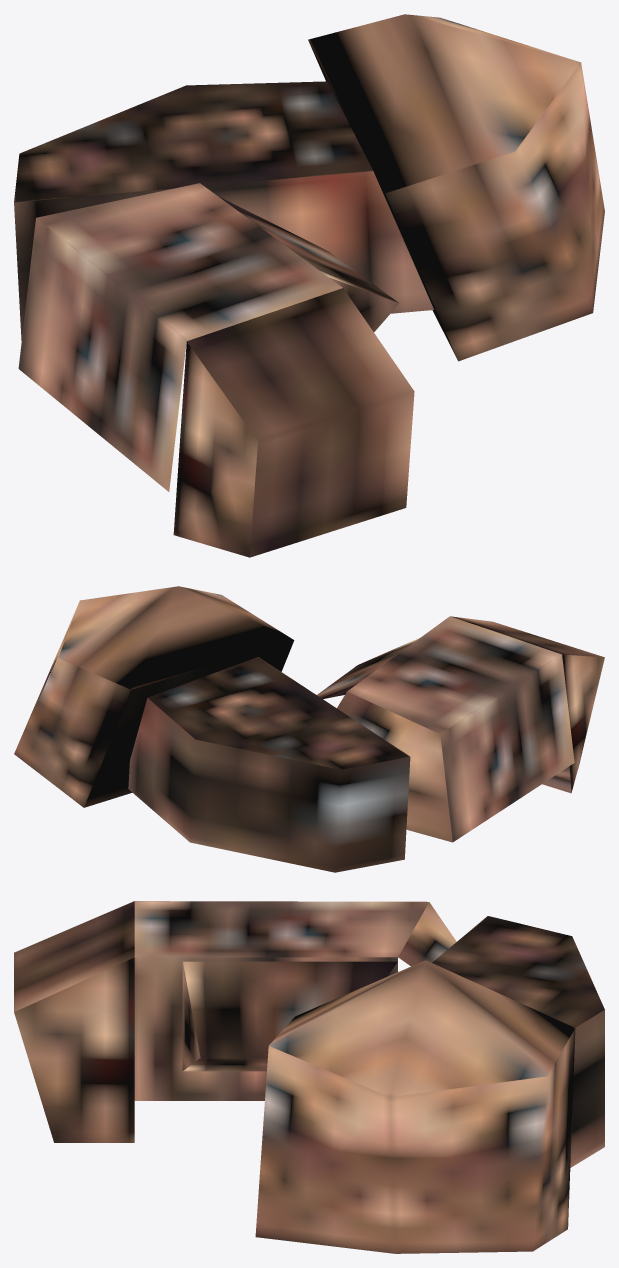
Rendered from mechpiece_arm1.glb.
3 renders of one model, top to bottom at view 1: azimuth 30°, elevation 25°; view 2: azimuth 150°, elevation 25°; view 3: azimuth 270°, elevation 25°, orthographic. The views are drawn at different scales.
Visible parts, largest first — view 1: Object01; view 2: Object01; view 3: Object01.
Boxes of the visible parts, x1=… form: Object01: x1=14, y1=14, x2=604, y2=557; Object01: x1=14, y1=586, x2=604, y2=872; Object01: x1=14, y1=901, x2=604, y2=1253.
Bounding box in the file's own units: 5.33 × 2.73 × 5.14.
Materials: 1 (1 with a texture image).
